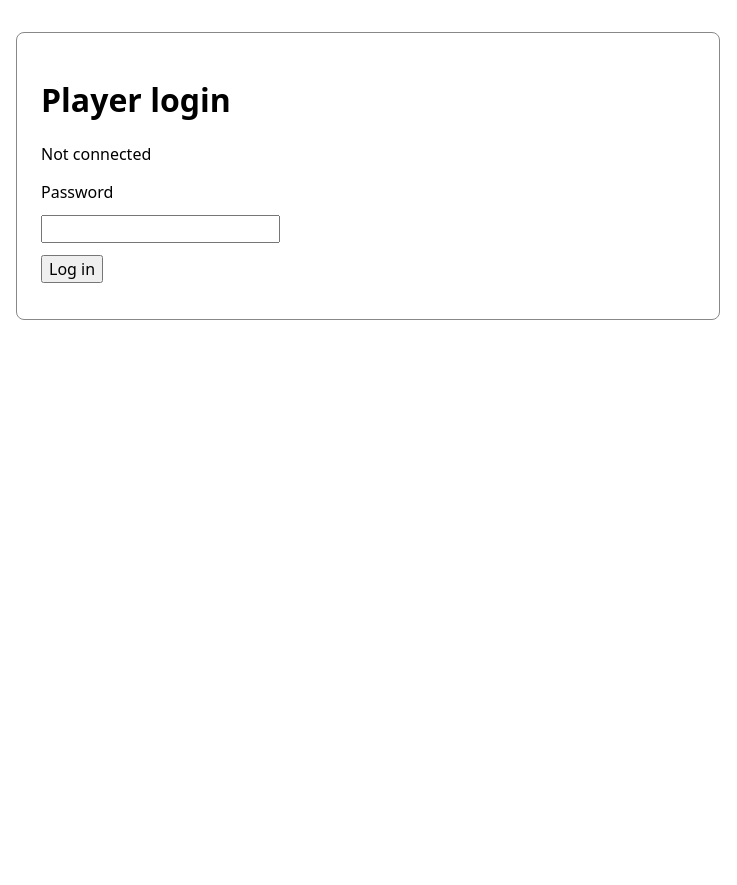
Test: player gameplay projection and interactions › disables input while the server projection is busy
The image size is (737, 885).
In the password field named "password": x=160, y=229 [41,215,280,243], type "never-persist-this"
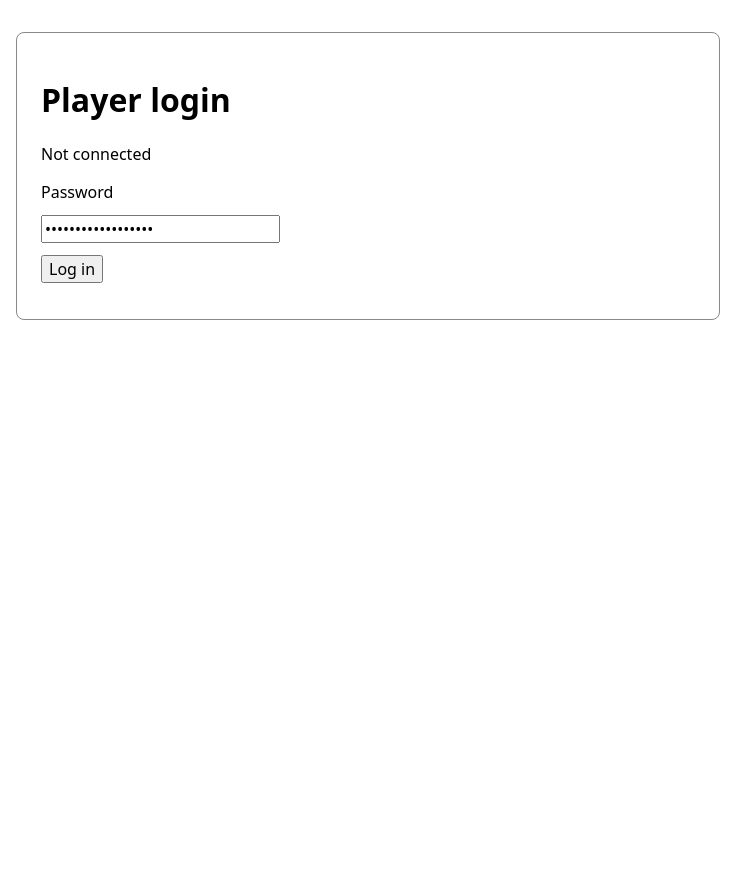
Submit the form, box [41,181,280,283]
(page scrolled)
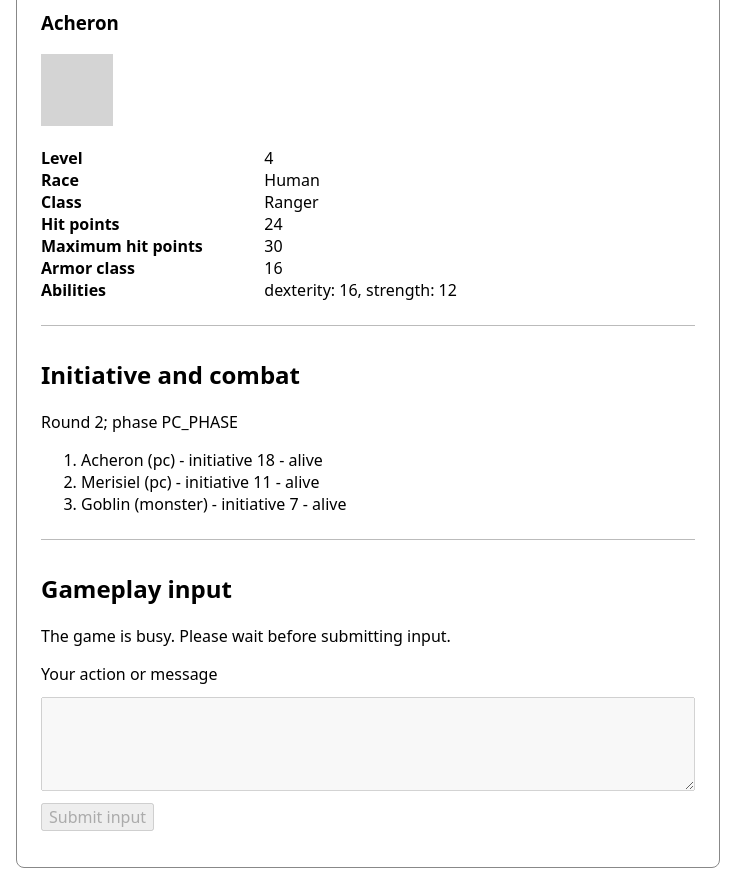
Expected: the text box with id "gameplay-input" is disabled, [41,697,695,791]
Expected: the text "The game is busy" is shown, [41,625,451,647]
Expected: the submit button is disabled, [41,803,154,831]
